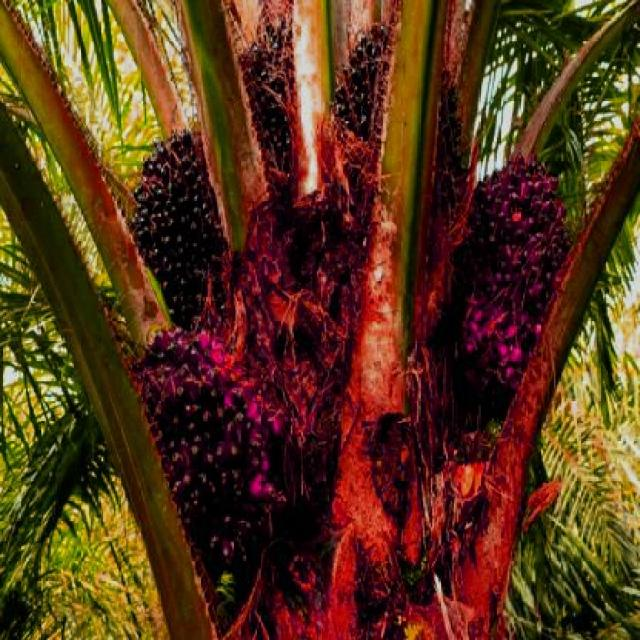palm-oil: (134, 321, 297, 571), (460, 147, 584, 435), (349, 7, 466, 237), (133, 115, 237, 306), (238, 24, 296, 138)
